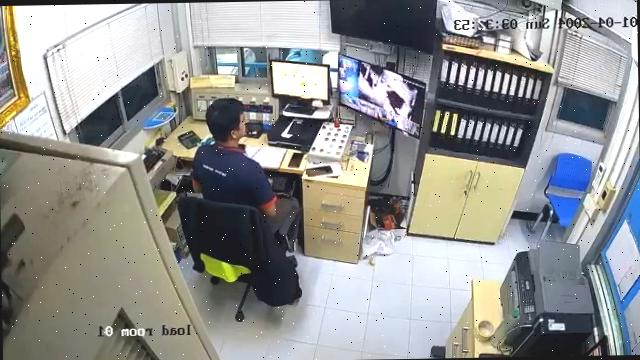Head: (202, 98, 248, 144)
People: (192, 98, 301, 242)
Phone: (304, 165, 334, 176), (286, 152, 306, 168)
